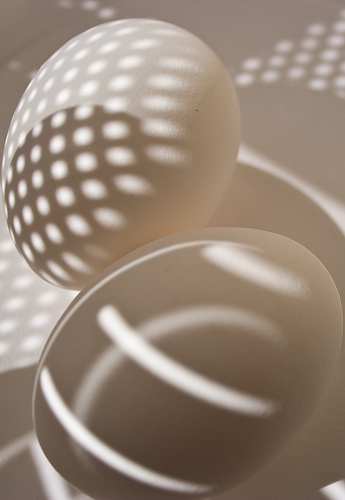egg: (30, 225, 343, 498), (1, 16, 242, 290)
